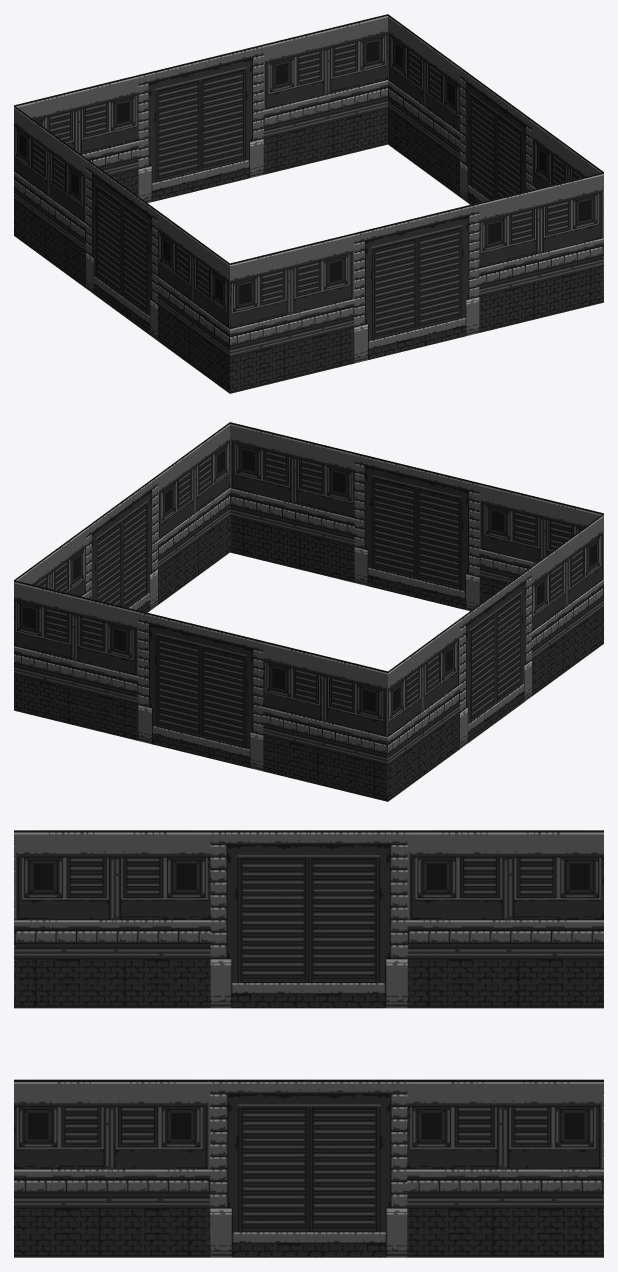
File: top_2.FBX
3 renders of one model, top to bottom at view 1: azimuth 30°, elevation 25°; view 2: azimuth 150°, elevation 25°; view 3: azimuth 270°, elevation 25°, orthographic. The views are drawn at different scales.
Visible parts, largest first — view 1: gry_top; view 2: gry_top; view 3: gry_top.
Part boxes in pixels (box(x1,y1,x2,y2)): gry_top: box(14, 14, 603, 393); gry_top: box(14, 422, 603, 801); gry_top: box(14, 830, 603, 1257).
Size of the model in its own units: 147 by 49.08 by 147.
1 material, 1 textured.
